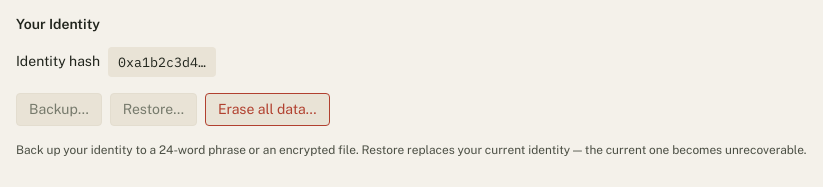
IdentityPanel — wizard mode toggles › clicking Restore… shows restore source picker and hides default buttons
Expected: the button "0xa1b2c3d4…" is shown, [108,47,216,77]
Click the button "Restore…".
click(153, 109)  # box [110,93,197,126]
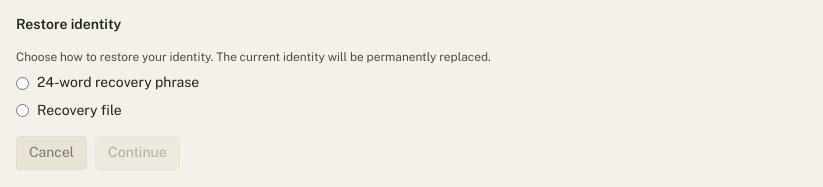
Now the heading "Restore identity" is shown, box [16,16,121,32]
Now the button "Backup" is gone
Now the button "Continue" is shown, box [95,136,180,170]
